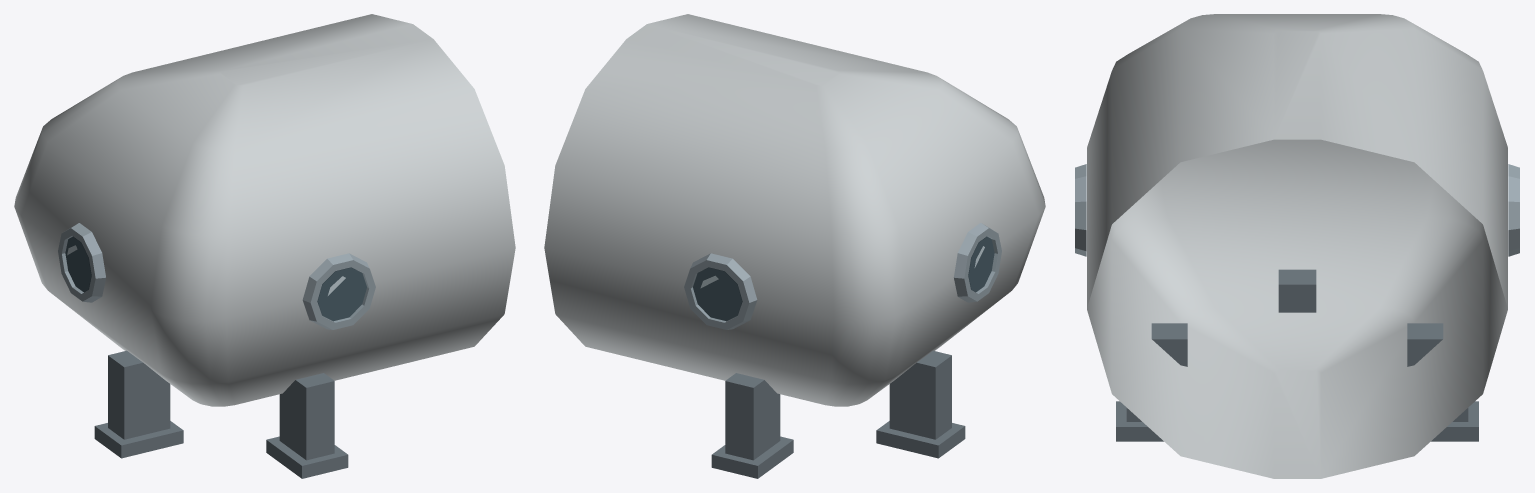
File: pressure_004.glb
The picture shows the model from 3 angles, left to right: view 1: azimuth 30°, elevation 25°; view 2: azimuth 150°, elevation 25°; view 3: azimuth 270°, elevation 25°; orthographic projection. The views are drawn at different scales.
Visible parts, largest first — view 1: Pressure_Shell.046, Support.132, Support.130, Porthole_Rim.067, Porthole_Rim.069, Gas_Window.067, Window_Glass.067, Footplate.132, Footplate.130, Window_Glass.069, Gas_Window.069; view 2: Pressure_Shell.046, Support.132, Support.131, Porthole_Rim.068, Porthole_Rim.069, Gas_Window.068, Window_Glass.068, Footplate.132, Footplate.131, Window_Glass.069, Gas_Window.069; view 3: Pressure_Shell.046, Support.132, Support.130, Support.131, Porthole_Rim.067, Porthole_Rim.068, Footplate.130, Footplate.131.
Part boxes in pixels (x1,y1,x2,y2): Pressure_Shell.046: [14, 14, 515, 406]; Support.132: [108, 350, 170, 439]; Support.130: [279, 373, 334, 460]; Porthole_Rim.067: [302, 253, 375, 329]; Porthole_Rim.069: [58, 223, 105, 302]; Gas_Window.067: [317, 267, 366, 321]; Window_Glass.067: [318, 268, 368, 321]; Footplate.132: [94, 421, 183, 458]; Footplate.130: [266, 436, 348, 478]; Window_Glass.069: [62, 237, 90, 292]; Gas_Window.069: [65, 236, 91, 292]; Pressure_Shell.046: [544, 14, 1045, 406]; Support.132: [889, 350, 951, 439]; Support.131: [725, 373, 780, 460]; Porthole_Rim.068: [684, 253, 757, 329]; Porthole_Rim.069: [954, 223, 1001, 302]; Gas_Window.068: [693, 267, 742, 321]; Window_Glass.068: [691, 268, 741, 321]; Footplate.132: [876, 421, 965, 458]; Footplate.131: [711, 436, 793, 478]; Window_Glass.069: [969, 237, 997, 292]; Gas_Window.069: [968, 236, 994, 292]; Pressure_Shell.046: [1087, 14, 1507, 478]; Support.132: [1278, 269, 1316, 312]; Support.130: [1126, 323, 1187, 421]; Support.131: [1407, 323, 1468, 421]; Porthole_Rim.067: [1075, 164, 1086, 256]; Porthole_Rim.068: [1508, 164, 1519, 256]; Footplate.130: [1116, 401, 1163, 441]; Footplate.131: [1431, 401, 1478, 441].
Size of the model in its own units: 1.95 by 1.83 by 1.91.
